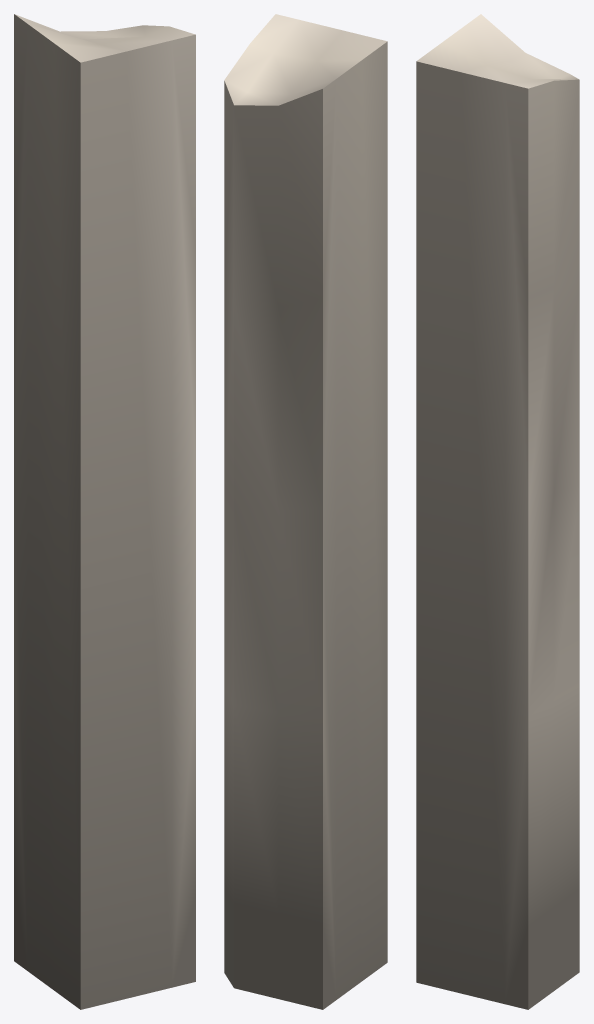
Rendered from SM_VKI_Rock_Cave_FOOO_WallSENW.fbx.
The picture shows the model from 3 angles, left to right: view 1: azimuth 30°, elevation 25°; view 2: azimuth 150°, elevation 25°; view 3: azimuth 330°, elevation 25°; orthographic projection. The views are drawn at different scales.
Visible parts, largest first — view 1: SM_VKI_Rock_Cave_FOOO_WallSENW.001; view 2: SM_VKI_Rock_Cave_FOOO_WallSENW.001; view 3: SM_VKI_Rock_Cave_FOOO_WallSENW.001.
Part boxes in pixels (box(x1,y1,x2,y2)): SM_VKI_Rock_Cave_FOOO_WallSENW.001: box(14, 14, 195, 1009); SM_VKI_Rock_Cave_FOOO_WallSENW.001: box(224, 14, 387, 1009); SM_VKI_Rock_Cave_FOOO_WallSENW.001: box(416, 14, 579, 1009).
Size of the model in its own units: 0.42 by 3.3 by 0.42.
